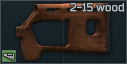ADAR 2-15 wooden stock: (0, 0, 127, 64)
